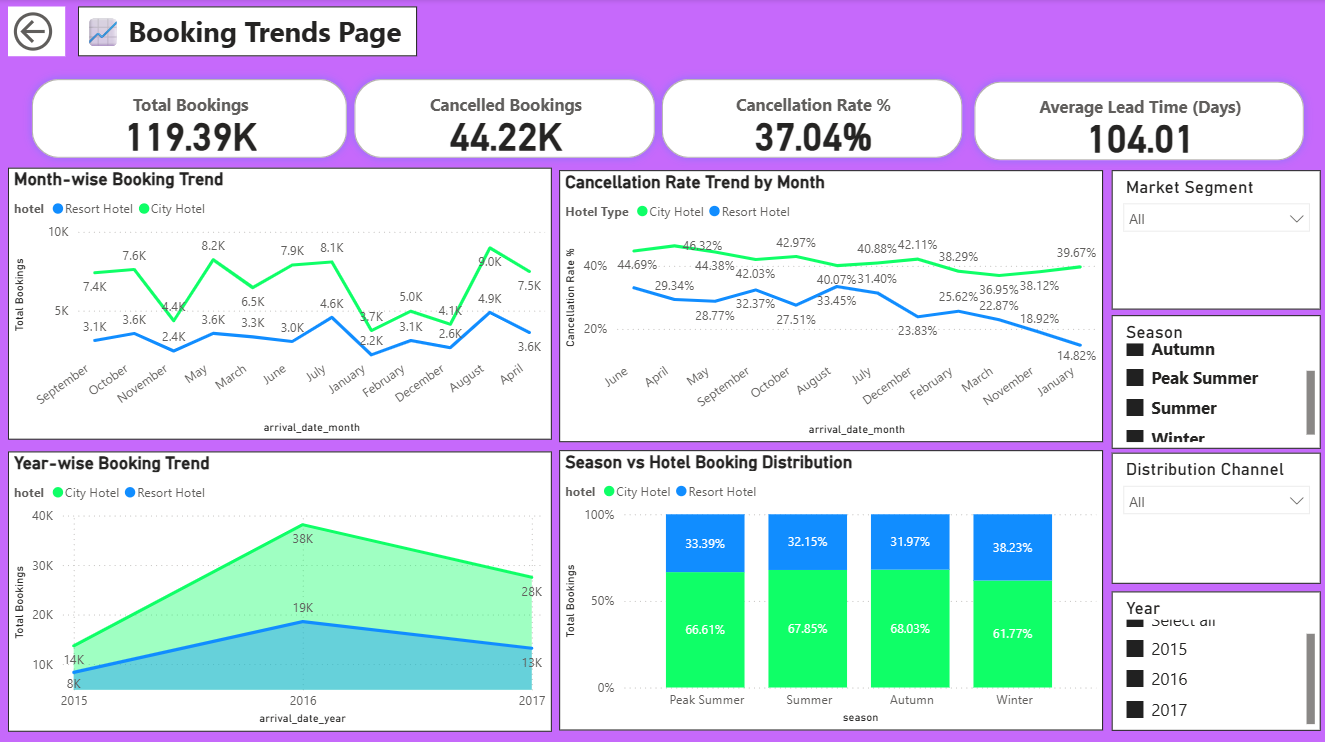

The dashboard page shown, as its layout file describes it:
{"tool":"powerbi","page":{"name":"Booking Trends Page","canvas":[1280,720],"ordinal":2},"visuals":[{"type":"textbox","box":[77.2,7.2,326.9,48.3],"z":0},{"type":"cardVisual","fields":{"Data":["vw_hotel_analysis.Total Bookings"]},"box":[16.7,61.6,336.7,108.1],"z":0,"group":"g1"},{"type":"slicer","fields":{"Values":["vw_hotel_analysis.season"]},"box":[1074.7,305.6,201.8,128.5],"z":0,"group":"g2"},{"type":"group","id":"g1","title":"Group 1","box":[16.7,61.6,1259.7,110],"z":1000},{"type":"cardVisual","fields":{"Data":["vw_hotel_analysis.Cancelled Bookings"]},"box":[327.7,61.6,322.2,108.1],"z":1000,"group":"g1"},{"type":"slicer","fields":{"Values":["vw_hotel_analysis.market_segment_name"]},"box":[1074.7,165.4,201.8,134.4],"z":1000,"group":"g2"},{"type":"actionButton","box":[9.7,7.2,55.5,48.3],"z":2000},{"type":"cardVisual","fields":{"Data":["vw_hotel_analysis.Cancellation Rate %"]},"box":[624.2,61.6,322.2,108.1],"z":2000,"group":"g1"},{"type":"slicer","fields":{"Values":["vw_hotel_analysis.distribution_channel_name"]},"box":[1074.7,438,201.8,126.6],"z":2000,"group":"g2"},{"type":"group","id":"g2","title":"Group 2","box":[9.7,162.9,1266.8,544.1],"z":3000},{"type":"areaChart","title":"Year-wise Booking Trend","fields":{"Category":["vw_hotel_analysis.arrival_date_year"],"Y":["vw_hotel_analysis.Total Bookings"],"Series":["vw_hotel_analysis.hotel"]},"box":[9.7,436.8,524.9,270.2],"z":3000,"group":"g2"},{"type":"cardVisual","fields":{"Data":["Avg(vw_hotel_analysis.lead_time)"]},"box":[926.3,63.5,350.1,108.1],"z":4000,"group":"g1"},{"type":"lineChart","title":"Month-wise Booking Trend","fields":{"Y":["vw_hotel_analysis.Total Bookings"],"Category":["vw_hotel_analysis.arrival_date_month"],"Series":["vw_hotel_analysis.hotel"]},"box":[9.7,162.9,524.9,262.8],"z":4000,"group":"g2"},{"type":"slicer","fields":{"Values":["vw_hotel_analysis.arrival_date.Variation.Date Hierarchy.Year"]},"box":[1074.7,572.4,201.8,134.4],"z":5000,"group":"g2"},{"type":"lineChart","title":"Cancellation Rate Trend by Month","fields":{"Category":["vw_hotel_analysis.arrival_date_month"],"Y":["vw_hotel_analysis.Cancellation Rate %"],"Series":["vw_hotel_analysis.hotel"]},"box":[541.8,165.4,524.9,262.8],"z":6000,"group":"g2"},{"type":"hundredPercentStackedColumnChart","title":"Season vs Hotel Booking Distribution","fields":{"Category":["vw_hotel_analysis.season"],"Y":["vw_hotel_analysis.Total Bookings"],"Series":["vw_hotel_analysis.hotel"]},"box":[541.8,435.6,524.9,270.2],"z":7000,"group":"g2"}]}

Visuals, with their boxes in screenshot pixels (x1, y1, x2, y2), scaled from the page's 1280x720 canvas onto the 1325x742 screenshot:
textbox: <bbox>80, 7, 418, 57</bbox>
cardVisual - vw_hotel_analysis.Total Bookings: <bbox>17, 63, 366, 175</bbox>
slicer - vw_hotel_analysis.season: <bbox>1112, 315, 1321, 447</bbox>
"Group 1" group: <bbox>17, 63, 1321, 177</bbox>
cardVisual - vw_hotel_analysis.Cancelled Bookings: <bbox>339, 63, 673, 175</bbox>
slicer - vw_hotel_analysis.market_segment_name: <bbox>1112, 170, 1321, 309</bbox>
actionButton: <bbox>10, 7, 67, 57</bbox>
cardVisual - vw_hotel_analysis.Cancellation Rate %: <bbox>646, 63, 980, 175</bbox>
slicer - vw_hotel_analysis.distribution_channel_name: <bbox>1112, 451, 1321, 582</bbox>
"Group 2" group: <bbox>10, 168, 1321, 729</bbox>
"Year-wise Booking Trend" areaChart: <bbox>10, 450, 553, 729</bbox>
cardVisual - Avg(vw_hotel_analysis.lead_time): <bbox>959, 65, 1321, 177</bbox>
"Month-wise Booking Trend" lineChart: <bbox>10, 168, 553, 439</bbox>
slicer - vw_hotel_analysis.arrival_date.Variation.Date Hierarchy.Year: <bbox>1112, 590, 1321, 728</bbox>
"Cancellation Rate Trend by Month" lineChart: <bbox>561, 170, 1104, 441</bbox>
"Season vs Hotel Booking Distribution" hundredPercentStackedColumnChart: <bbox>561, 449, 1104, 727</bbox>
